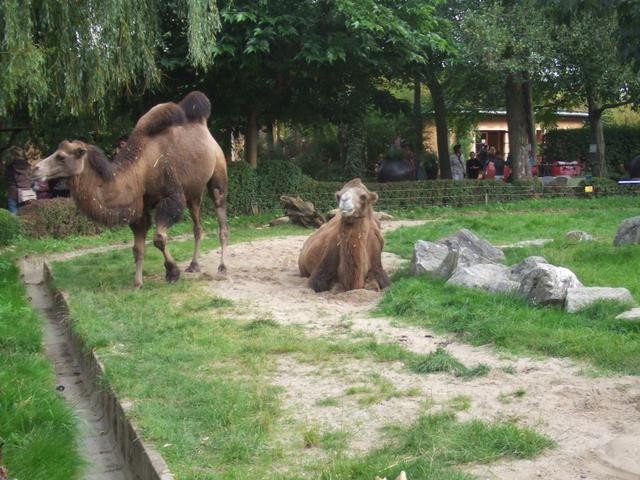camel: (25, 96, 298, 273), (303, 172, 400, 288)
